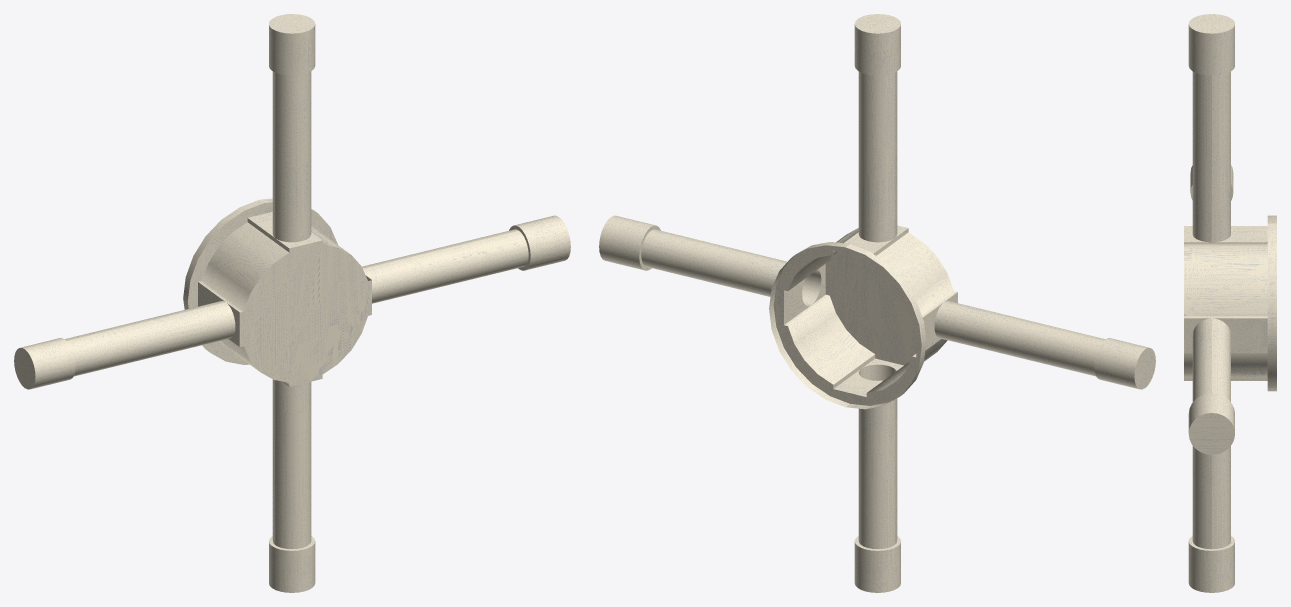
Rendered from original-54.obj.
3 renders of one model, left to right at view 1: azimuth 30°, elevation 25°; view 2: azimuth 150°, elevation 25°; view 3: azimuth 270°, elevation 25°, orthographic.
Visible parts, largest first — view 1: mesh33/mesh33-geometry/material_4#mesh33-geometry; view 2: mesh33/mesh33-geometry/material_4#mesh33-geometry; view 3: mesh33/mesh33-geometry/material_4#mesh33-geometry.
Boxes of the visible parts, box(x1,y1,x2,y2) form: mesh33/mesh33-geometry/material_4#mesh33-geometry: box(14, 14, 570, 592); mesh33/mesh33-geometry/material_4#mesh33-geometry: box(599, 14, 1155, 592); mesh33/mesh33-geometry/material_4#mesh33-geometry: box(1184, 14, 1276, 592).
Bounding box in the file's own units: 0.3379 × 0.3379 × 0.0508.
